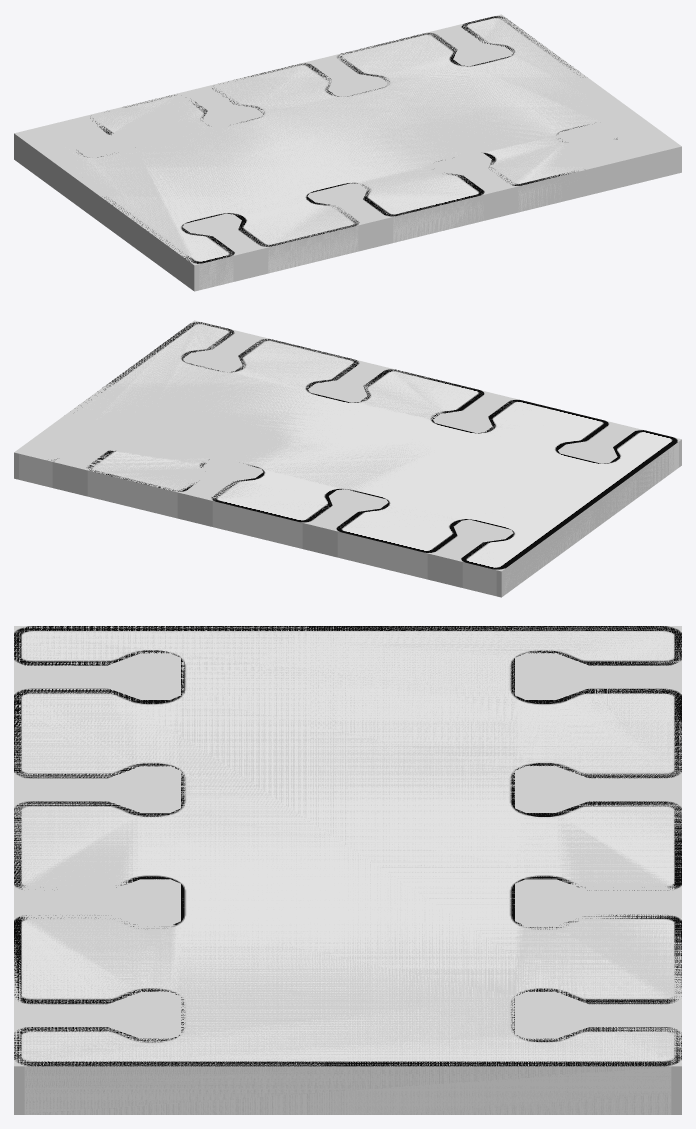
Rendered from StackedGIK_5mmSpacing.fbx.
The picture shows the model from 3 angles, top to bottom: view 1: azimuth 30°, elevation 25°; view 2: azimuth 150°, elevation 25°; view 3: azimuth 270°, elevation 25°; orthographic projection. The views are drawn at different scales.
Parts seen in each view (by area): view 1: Rectangle003, Rectangle001; view 2: Rectangle001, Rectangle003; view 3: Rectangle001, Rectangle003.
Part boxes in pixels (bbox=[...]): Rectangle003: bbox=[14, 14, 681, 291]; Rectangle001: bbox=[73, 15, 617, 290]; Rectangle001: bbox=[19, 321, 678, 596]; Rectangle003: bbox=[14, 320, 681, 597]; Rectangle001: bbox=[14, 626, 681, 1114]; Rectangle003: bbox=[14, 626, 681, 1114].
Size of the model in its own units: 19.5 by 1 by 12.5.
2 materials, 2 textured.
